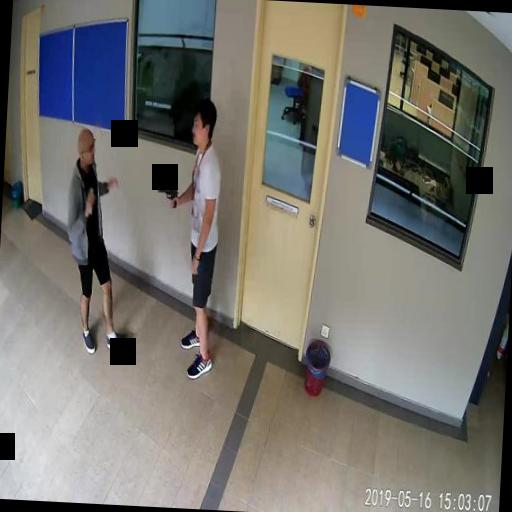Handgun: (156, 182, 178, 206)
